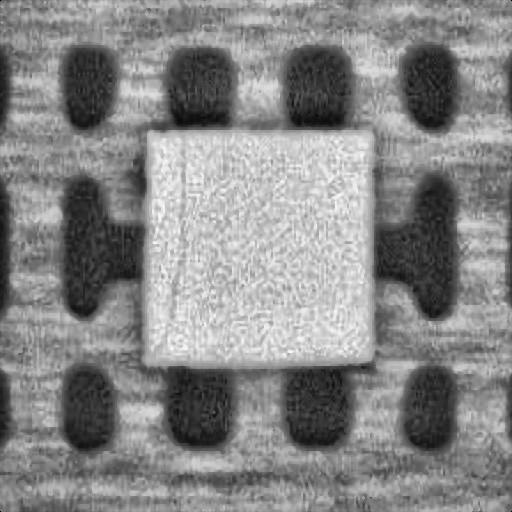DIE_CRACK: (151, 130, 184, 355)
